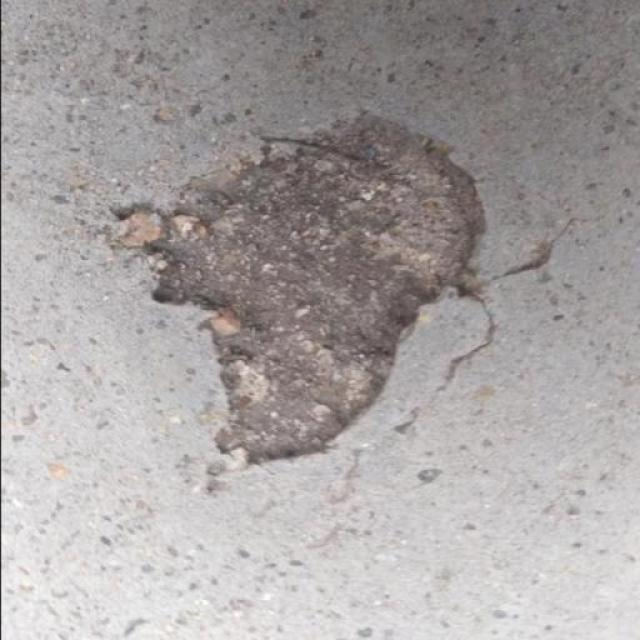D10: (116, 110, 486, 465)
